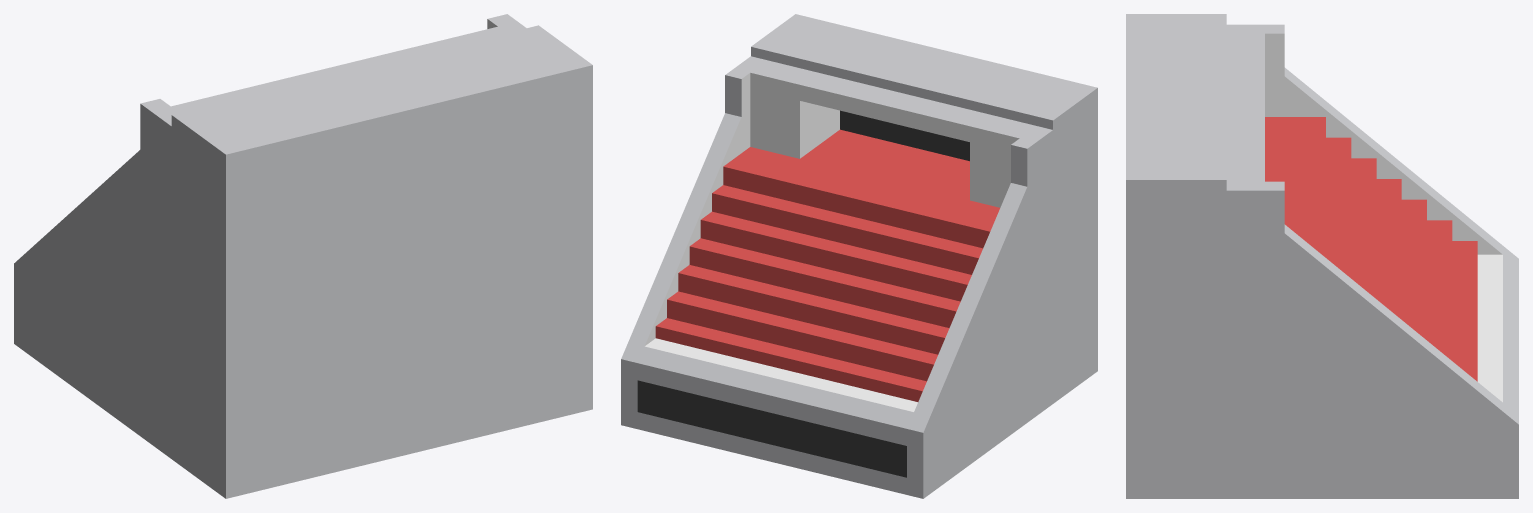
Rendered from grandStand.fbx.
The picture shows the model from 3 angles, left to right: view 1: azimuth 30°, elevation 25°; view 2: azimuth 150°, elevation 25°; view 3: azimuth 270°, elevation 25°; orthographic projection. The views are drawn at different scales.
Visible parts, largest first — view 1: grandStand; view 2: grandStand; view 3: grandStand.
Part boxes in pixels (x1,y1,x2,y2): grandStand: (14, 14, 592, 498); grandStand: (621, 14, 1097, 498); grandStand: (1126, 14, 1518, 498).
Bounding box in the file's own units: 10 × 8.96 × 10.
